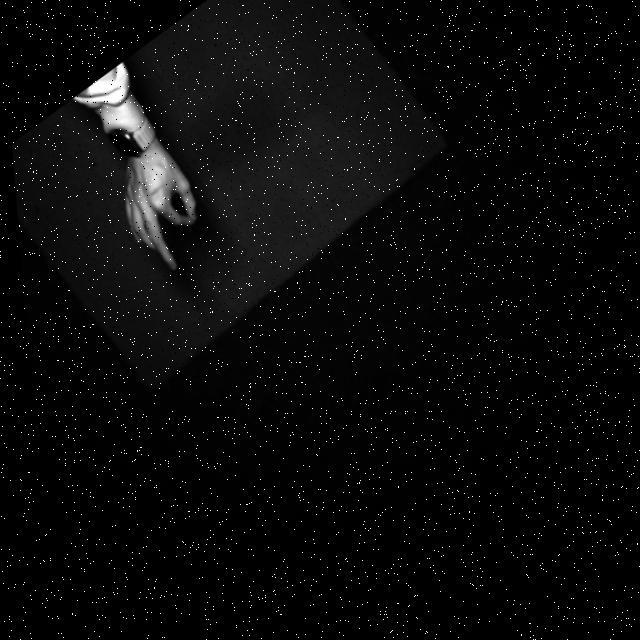no-gloves: (80, 120, 242, 291)
